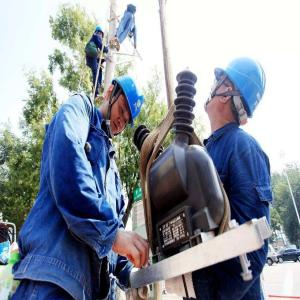blue: (205, 56, 268, 138), (105, 74, 146, 139), (95, 25, 104, 42)
